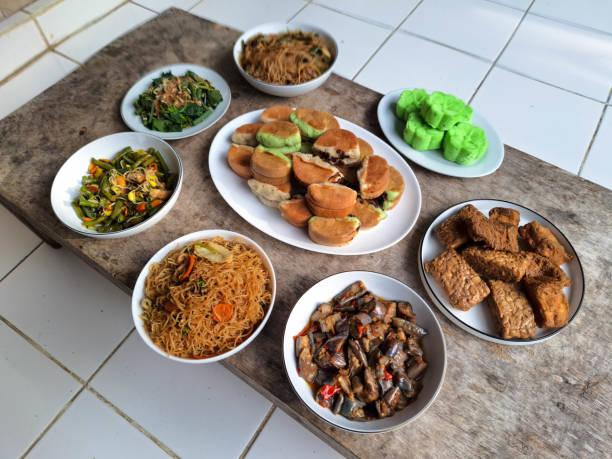Braised Crucian Carp: (206, 107, 417, 254), (282, 271, 445, 433), (418, 200, 584, 344), (132, 229, 274, 363), (49, 131, 181, 239), (377, 87, 503, 177), (119, 62, 230, 139), (231, 19, 340, 96)
